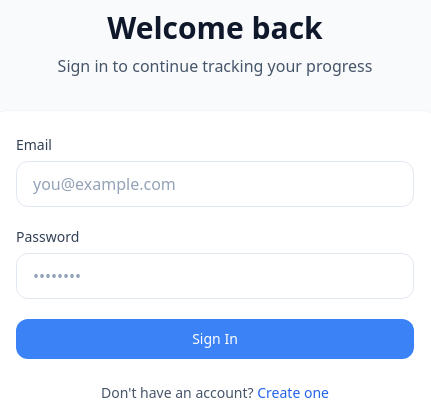
Scenario: Login Page › shows loading state during login
The width and height of the screenshot is (431, 415).
In the field labelled "Email": (215, 184) top-left (16, 161), bottom-right (414, 207), type "test@example.com"
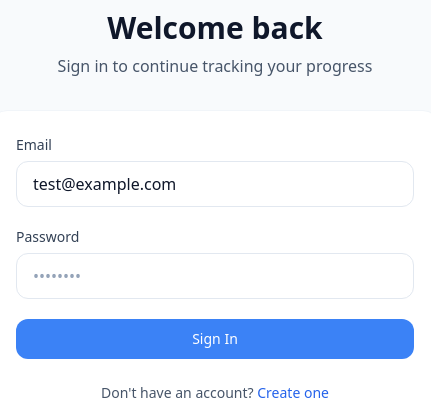
In the password field labelled "Password": (215, 276) top-left (16, 253), bottom-right (414, 299), type "password123"
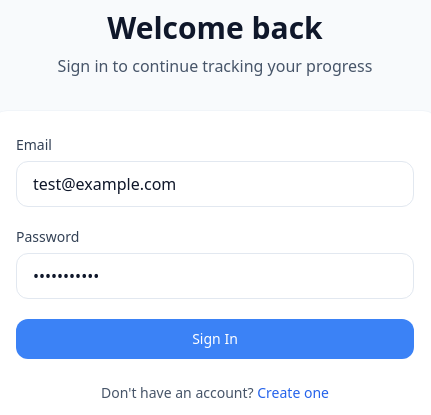
Click the button "Sign In": (215, 339) top-left (16, 319), bottom-right (414, 359)
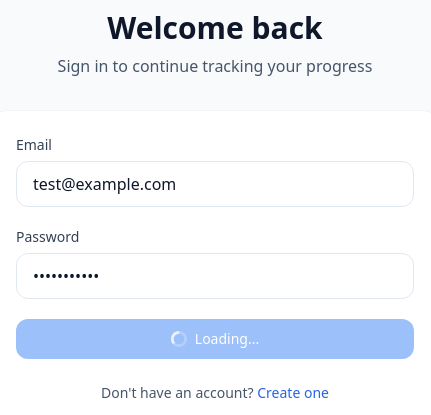
Result: the text "Loading..." is shown at top-left (195, 329), bottom-right (259, 349)
